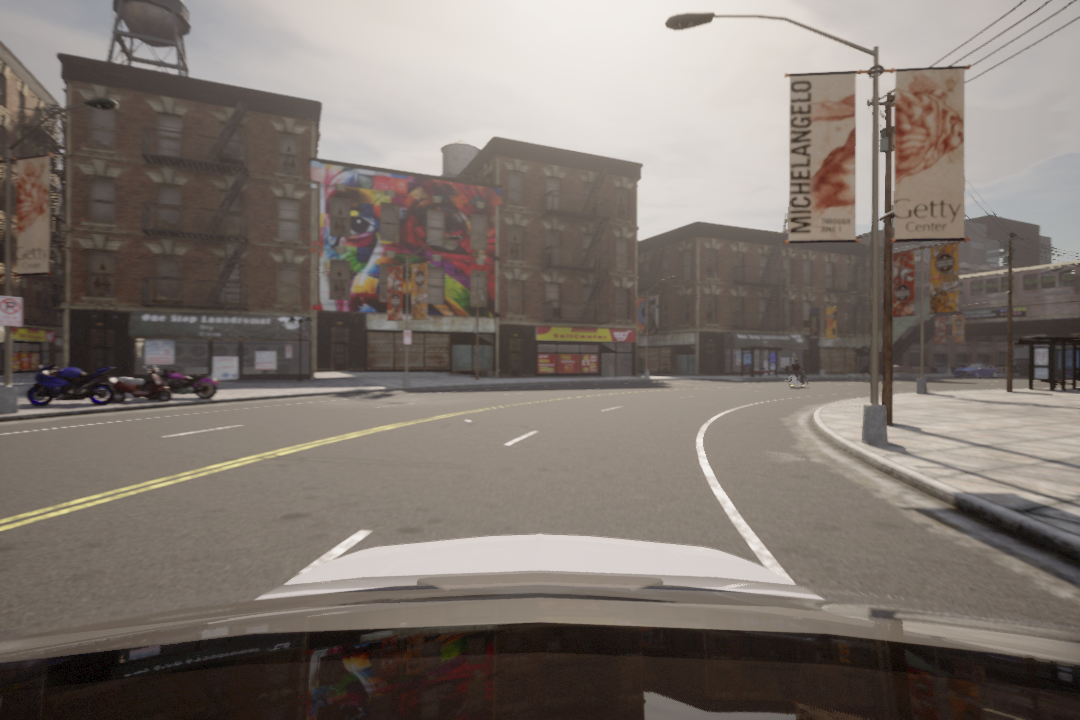TrafficSign_nstop: (1, 297, 23, 328)
